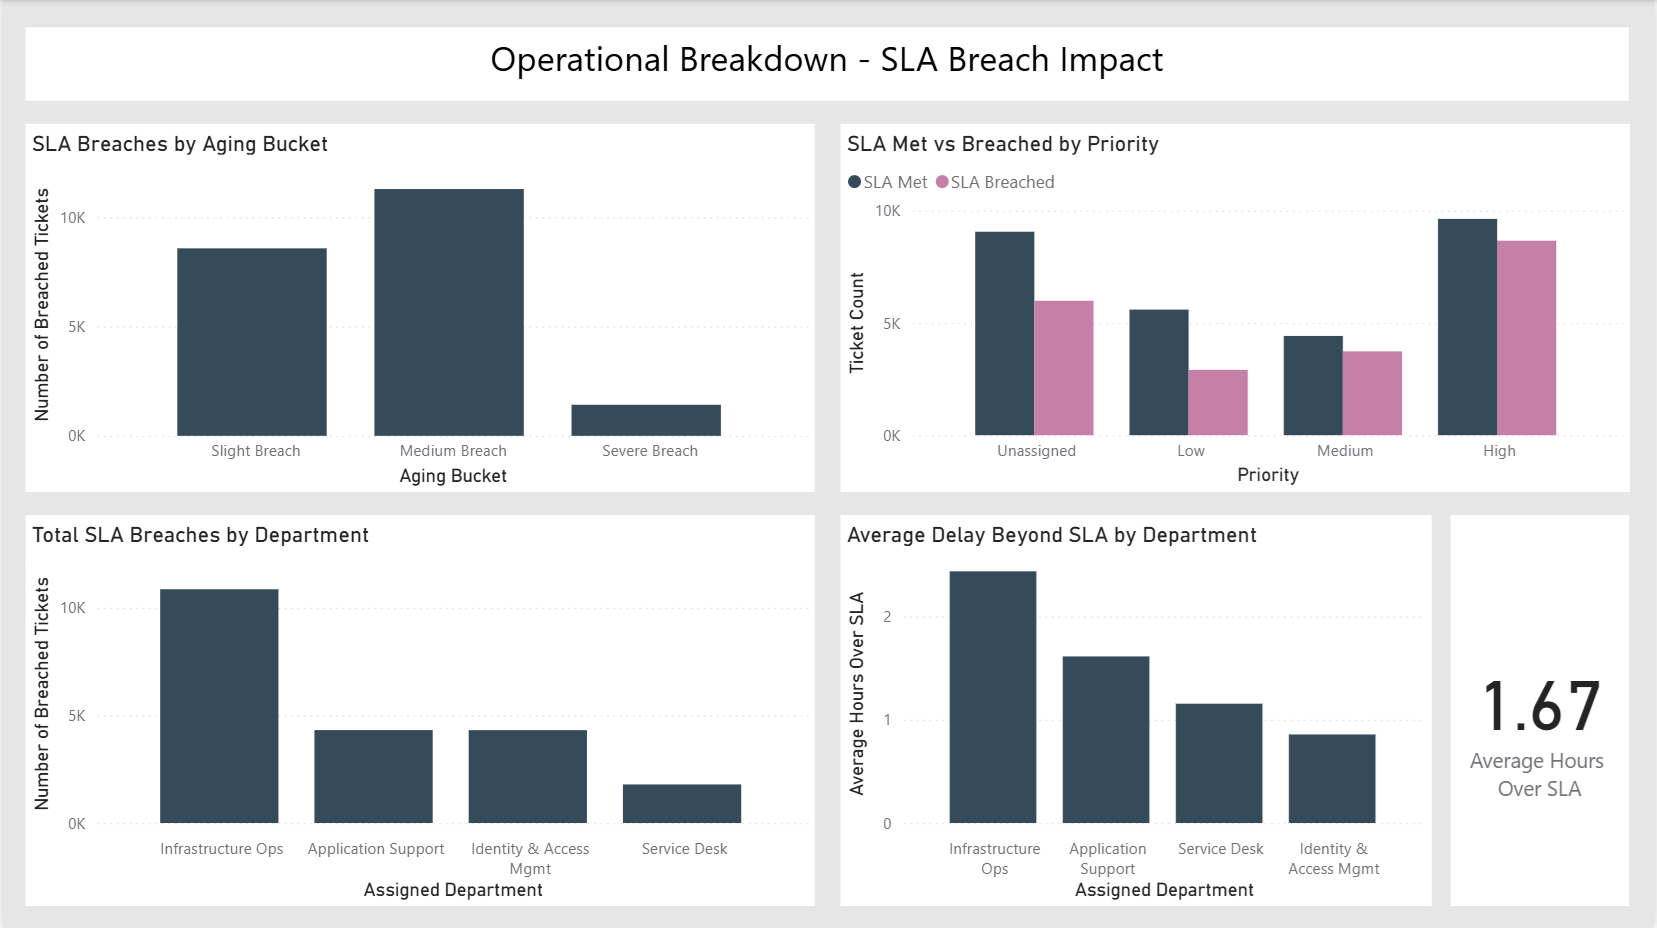

The page's visual inventory and layout, read from the dashboard file:
{"tool":"powerbi","page":{"name":"Operational Breakdown","canvas":[1280,720],"ordinal":1},"visuals":[{"type":"textbox","box":[17.4,20.9,1243,57],"z":0},{"type":"columnChart","title":"SLA Breaches by Aging Bucket","fields":{"Y":["Sum(SLA Project.Is_Breached)"],"Category":["SLA Project.Aging Bucket"]},"box":[17.8,96.1,612,285.4],"z":1000},{"type":"clusteredColumnChart","title":"SLA Met vs Breached by Priority","fields":{"Y":["Sum(SLA Project.Is_Met)","Sum(SLA Project.Is_Breached)"],"Category":["SLA Project.Priority"]},"box":[649.1,96.1,612,285.4],"z":2000},{"type":"columnChart","title":"Average Delay Beyond SLA by Department","fields":{"Category":["SLA Project.Assigned Department"],"Y":["SLA Project.Average Hours Over SLA"]},"box":[649.1,399.3,458,303.3],"z":3000},{"type":"clusteredColumnChart","title":"Total SLA Breaches by Department","fields":{"Y":["Sum(SLA Project.Is_Breached)"],"Category":["SLA Project.Assigned Department"]},"box":[17.8,399.3,612,303.3],"z":4000},{"type":"card","fields":{"Values":["SLA Project.Average Hours Over SLA"]},"box":[1122.5,399.3,138.6,303.3],"z":5000}]}

Visuals, with their boxes in screenshot pixels (x1, y1, x2, y2), scaled from the page's 1280x720 canvas onto the 1657x935 screenshot:
textbox: [23, 27, 1632, 101]
"SLA Breaches by Aging Bucket" columnChart: [23, 125, 815, 495]
"SLA Met vs Breached by Priority" clusteredColumnChart: [840, 125, 1633, 495]
"Average Delay Beyond SLA by Department" columnChart: [840, 519, 1433, 912]
"Total SLA Breaches by Department" clusteredColumnChart: [23, 519, 815, 912]
card - SLA Project.Average Hours Over SLA: [1453, 519, 1633, 912]
